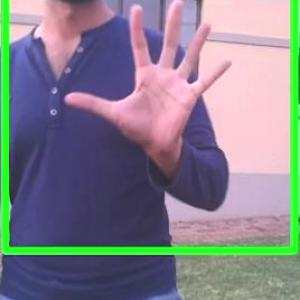follow_hand: (61, 0, 239, 164)
